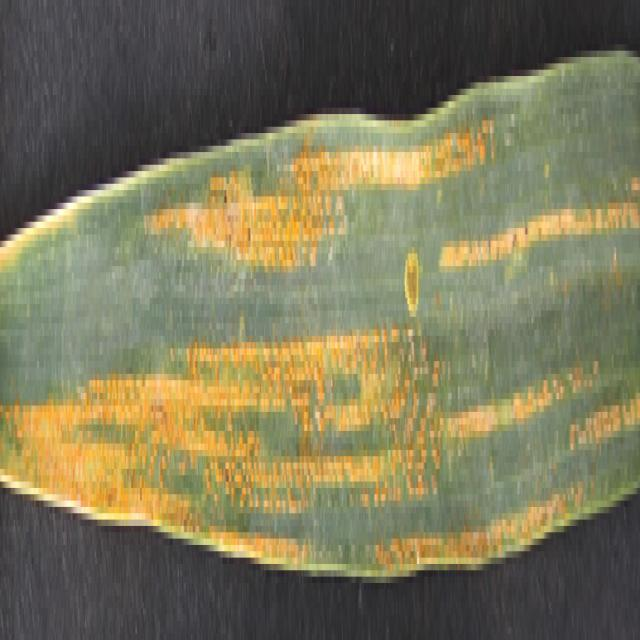leaf rust: (1, 127, 637, 583)
